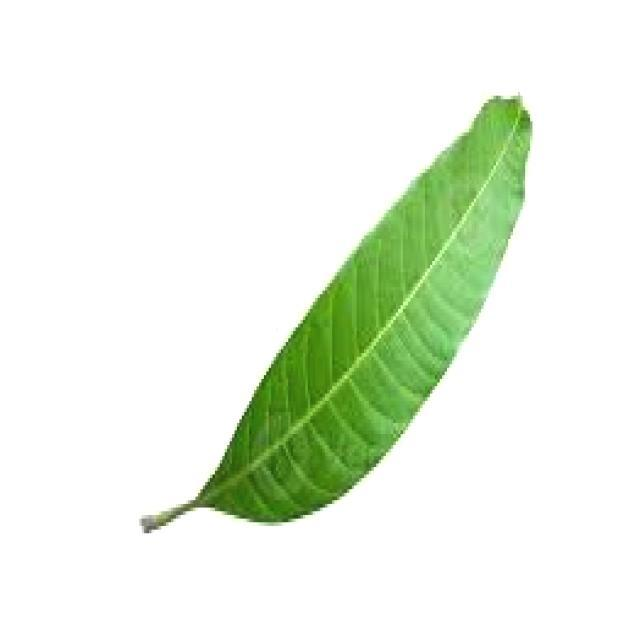leaf: (139, 91, 533, 533)
